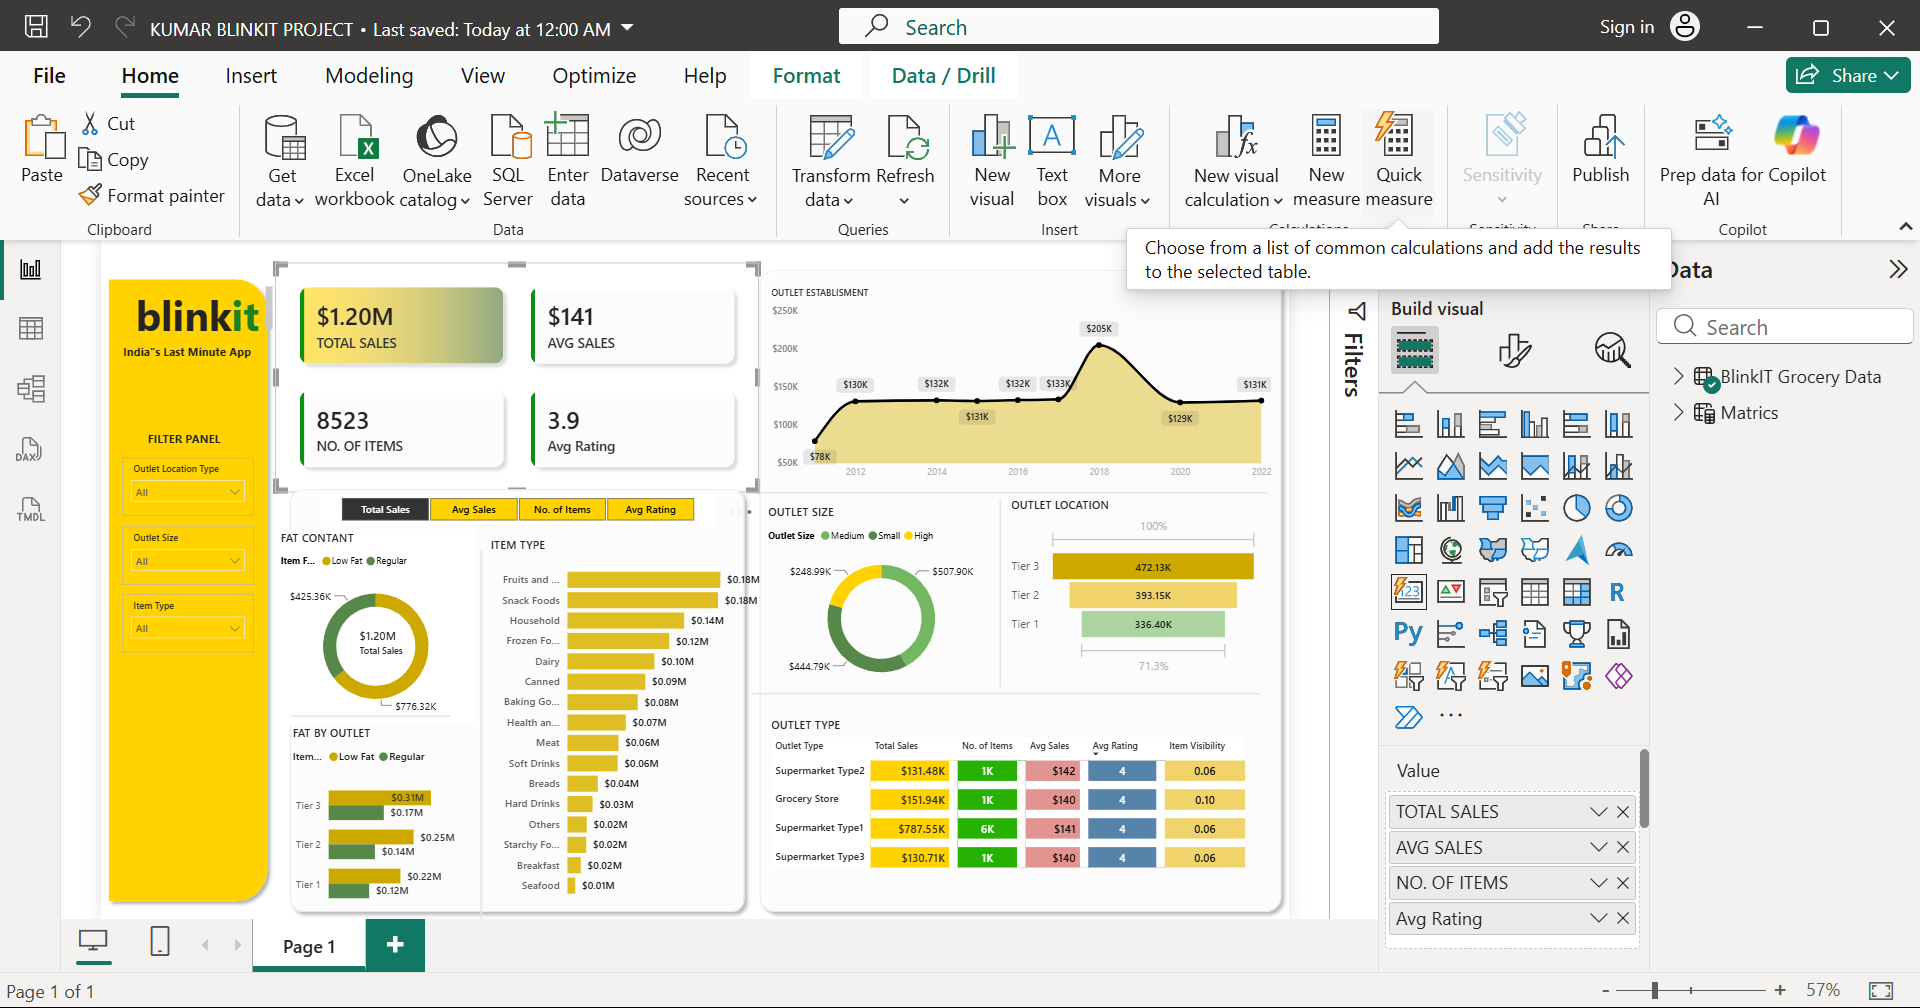

This screenshot's page, from the dashboard's own definition file:
{"tool":"powerbi","page":{"name":"Page 1","canvas":[1400,800],"ordinal":0},"visuals":[{"type":"shape","box":[0,37.1,205,751.1],"z":0},{"type":"textbox","box":[35.3,49.5,171.4,67.2],"z":1000},{"type":"textbox","box":[8.8,116.6,185.6,46],"z":2000},{"type":"cardVisual","fields":{"Data":["BlinkIT Grocery Data.Total Sales","BlinkIT Grocery Data.Avg Sales","BlinkIT Grocery Data.No. of Items","BlinkIT Grocery Data.Avg Rating"]},"box":[205,26.5,570.9,270.4],"z":3000},{"type":"shape","box":[213.8,284.5,553.2,516.1],"z":4000},{"type":"donutChart","title":"FAT CONTANT","fields":{"Y":["BlinkIT Grocery Data.Avg Sales"],"Category":["BlinkIT Grocery Data.Item Fat Content"]},"box":[206.8,341.1,233.3,229.8],"z":5000},{"type":"slicer","fields":{"Values":["Matrics.Matrics"]},"box":[258,296.9,464.8,40.6],"z":6000},{"type":"cardVisual","fields":{"Data":["BlinkIT Grocery Data.Avg Sales"]},"box":[275.3,432.9,116.2,82.8],"z":7000},{"type":"clusteredBarChart","title":"FAT BY OUTLET","fields":{"Y":["BlinkIT Grocery Data.Avg Sales"],"Category":["BlinkIT Grocery Data.Outlet Location Type"],"Series":["BlinkIT Grocery Data.Item Fat Content"]},"box":[220.9,570.9,219.2,229.8],"z":8000},{"type":"shape","box":[224.5,554.9,187.3,12.4],"z":9000},{"type":"shape","box":[775.9,284.5,590.3,33.6],"z":10000},{"type":"shape","box":[441.8,365.8,12.4,434.8],"z":11000},{"type":"barChart","title":"ITEM TYPE","fields":{"Y":["BlinkIT Grocery Data.Avg Sales"],"Category":["BlinkIT Grocery Data.Item Type"]},"box":[454.2,349.9,327,434.8],"z":12000},{"type":"shape","box":[767,26.5,632.7,774.1],"z":13000},{"type":"lineChart","title":"OUTLET ESTABLISMENT","fields":{"Y":["BlinkIT Grocery Data.Total Sales"],"Category":["BlinkIT Grocery Data.Outlet Establishment Year"]},"box":[784.7,54.8,599.1,235.1],"z":14000},{"type":"donutChart","title":"OUTLET SIZE","fields":{"Y":["BlinkIT Grocery Data.Total Sales"],"Category":["BlinkIT Grocery Data.Outlet Size"]},"box":[781.2,311.1,275.7,224.5],"z":15000},{"type":"shape","box":[1053.3,305.8,12.4,220.9],"z":16000},{"type":"funnel","title":" OUTLET LOCATION","fields":{"Y":["Sum(BlinkIT Grocery Data.Sales)"],"Category":["BlinkIT Grocery Data.Outlet Location Type"]},"box":[1067.5,302.2,300.4,213.8],"z":17000},{"type":"shape","box":[767,526.7,599.1,15.9],"z":18000},{"type":"shape","box":[775.9,289.8,599.1,15.9],"z":19000},{"type":"pivotTable","title":"OUTLET TYPE","fields":{"Rows":["BlinkIT Grocery Data.Outlet Type"],"Values":["BlinkIT Grocery Data.Total Sales","BlinkIT Grocery Data.No. of Items","BlinkIT Grocery Data.Avg Sales","BlinkIT Grocery Data.Avg Rating","Avg(BlinkIT Grocery Data.Item Visibility)"]},"box":[784.7,562,590.3,189.1],"z":20000},{"type":"slicer","fields":{"Values":["BlinkIT Grocery Data.Outlet Location Type"]},"box":[24.7,256.3,155.5,68.9],"z":21000},{"type":"slicer","fields":{"Values":["BlinkIT Grocery Data.Outlet Size"]},"box":[24.7,337.6,155.5,68.9],"z":22000},{"type":"slicer","fields":{"Values":["BlinkIT Grocery Data.Item Type"]},"box":[24.7,417.1,155.5,68.9],"z":23000},{"type":"textbox","box":[0,219.2,196.2,37.1],"z":24000}]}

Visuals, with their boxes on the page's 1400x800 design canvas (x1, y1, x2, y2). These are canvas units, not pixel positions in the 1920x1008 screenshot, which may show the page scaled, cropped or inside an application window:
shape: left=0, top=37, right=205, bottom=788
textbox: left=35, top=50, right=207, bottom=117
textbox: left=9, top=117, right=194, bottom=163
cardVisual - BlinkIT Grocery Data.Total Sales x BlinkIT Grocery Data.Avg Sales: left=205, top=26, right=776, bottom=297
shape: left=214, top=284, right=767, bottom=801
"FAT CONTANT" donutChart: left=207, top=341, right=440, bottom=571
slicer - Matrics.Matrics: left=258, top=297, right=723, bottom=338
cardVisual - BlinkIT Grocery Data.Avg Sales: left=275, top=433, right=392, bottom=516
"FAT BY OUTLET" clusteredBarChart: left=221, top=571, right=440, bottom=801
shape: left=224, top=555, right=412, bottom=567
shape: left=776, top=284, right=1366, bottom=318
shape: left=442, top=366, right=454, bottom=801
"ITEM TYPE" barChart: left=454, top=350, right=781, bottom=785
shape: left=767, top=26, right=1400, bottom=801
"OUTLET ESTABLISMENT" lineChart: left=785, top=55, right=1384, bottom=290
"OUTLET SIZE" donutChart: left=781, top=311, right=1057, bottom=536
shape: left=1053, top=306, right=1066, bottom=527
" OUTLET LOCATION" funnel: left=1068, top=302, right=1368, bottom=516
shape: left=767, top=527, right=1366, bottom=543
shape: left=776, top=290, right=1375, bottom=306
"OUTLET TYPE" pivotTable: left=785, top=562, right=1375, bottom=751
slicer - BlinkIT Grocery Data.Outlet Location Type: left=25, top=256, right=180, bottom=325
slicer - BlinkIT Grocery Data.Outlet Size: left=25, top=338, right=180, bottom=406
slicer - BlinkIT Grocery Data.Item Type: left=25, top=417, right=180, bottom=486
textbox: left=0, top=219, right=196, bottom=256
